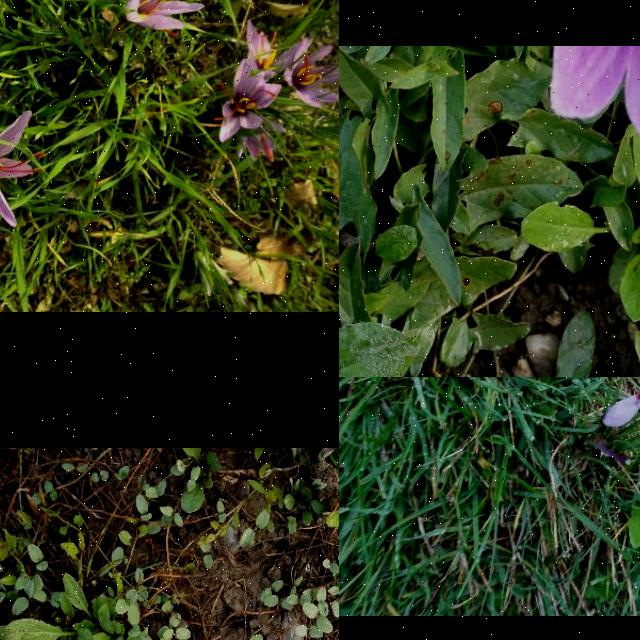flower: (214, 60, 282, 144), (0, 110, 43, 226), (121, 0, 206, 35), (604, 387, 640, 428)
overlap: (235, 20, 339, 162)
